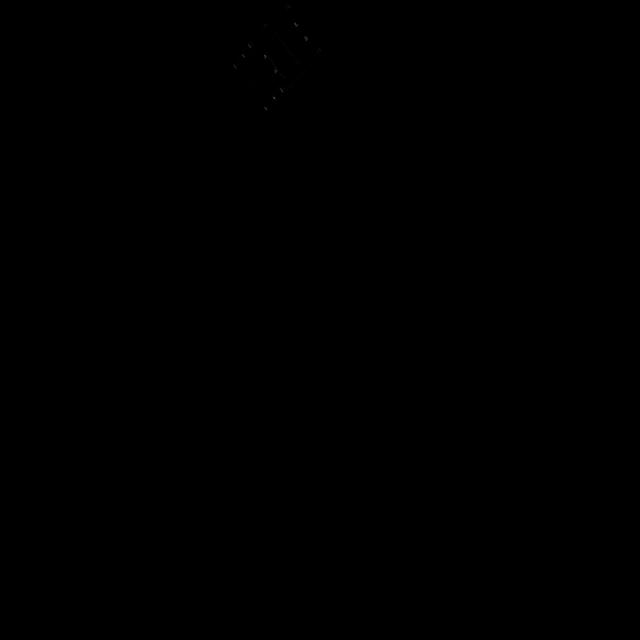satellite: (237, 20, 336, 108)
